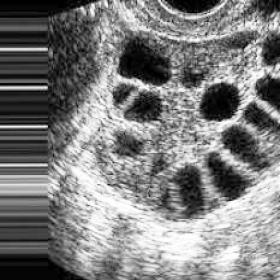PCOS: (124, 44, 171, 79), (182, 171, 206, 217), (202, 88, 241, 116), (226, 125, 256, 161), (210, 157, 238, 195), (246, 103, 270, 134), (136, 91, 162, 119), (262, 78, 280, 106), (264, 38, 280, 64), (188, 66, 204, 84), (117, 80, 129, 101), (124, 140, 140, 153), (157, 158, 171, 170)
